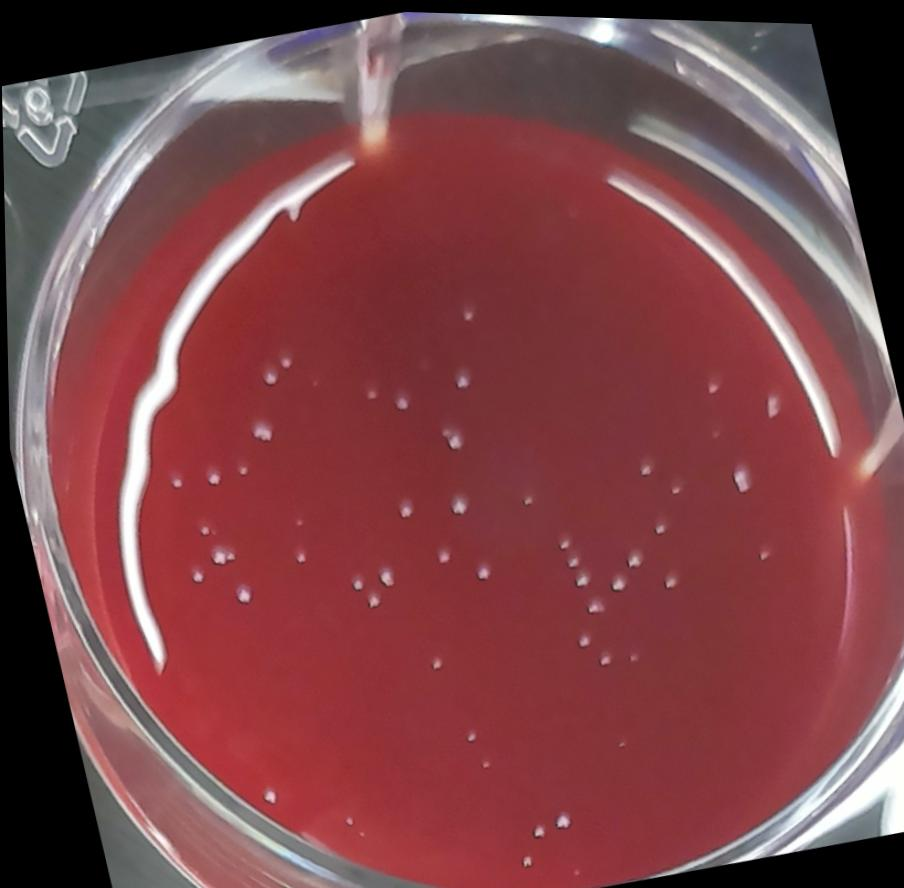staphylo-: (433, 418, 467, 456), (724, 454, 756, 494), (755, 376, 784, 419), (243, 414, 276, 446), (651, 562, 685, 592), (386, 382, 415, 417), (574, 590, 609, 618), (446, 362, 473, 395), (442, 489, 476, 515), (227, 579, 255, 610), (455, 300, 482, 331), (630, 451, 658, 479), (699, 367, 726, 395), (388, 494, 415, 522), (469, 555, 495, 583), (187, 516, 216, 541), (545, 806, 572, 832), (603, 567, 630, 593), (619, 544, 644, 572), (429, 539, 455, 565), (356, 379, 383, 404), (254, 782, 280, 807), (751, 539, 775, 566), (371, 562, 394, 590), (357, 587, 382, 612), (419, 650, 443, 675), (201, 465, 225, 489), (644, 513, 668, 537), (343, 571, 364, 598), (510, 847, 533, 871), (256, 366, 280, 388), (560, 548, 583, 570), (571, 627, 593, 648), (567, 566, 591, 585), (592, 645, 612, 666), (274, 349, 294, 370), (457, 725, 477, 745), (553, 532, 573, 551), (188, 567, 208, 586), (163, 473, 183, 492), (518, 487, 539, 505), (232, 460, 250, 480), (665, 478, 683, 495)
